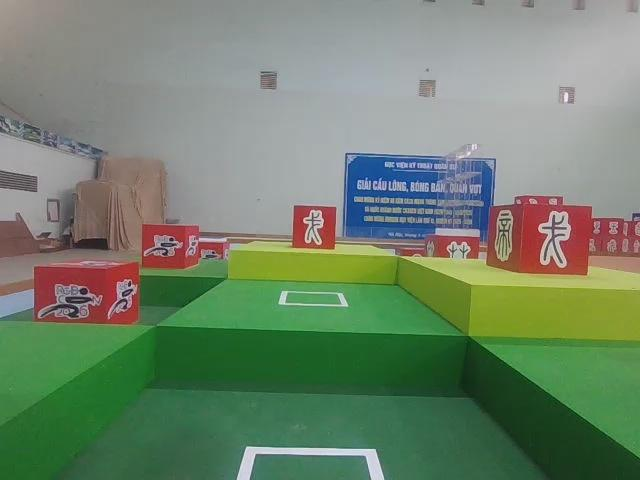R1: (30, 254, 141, 335), (138, 218, 201, 275)
R2 Fake: (483, 200, 595, 280), (290, 200, 340, 254)
